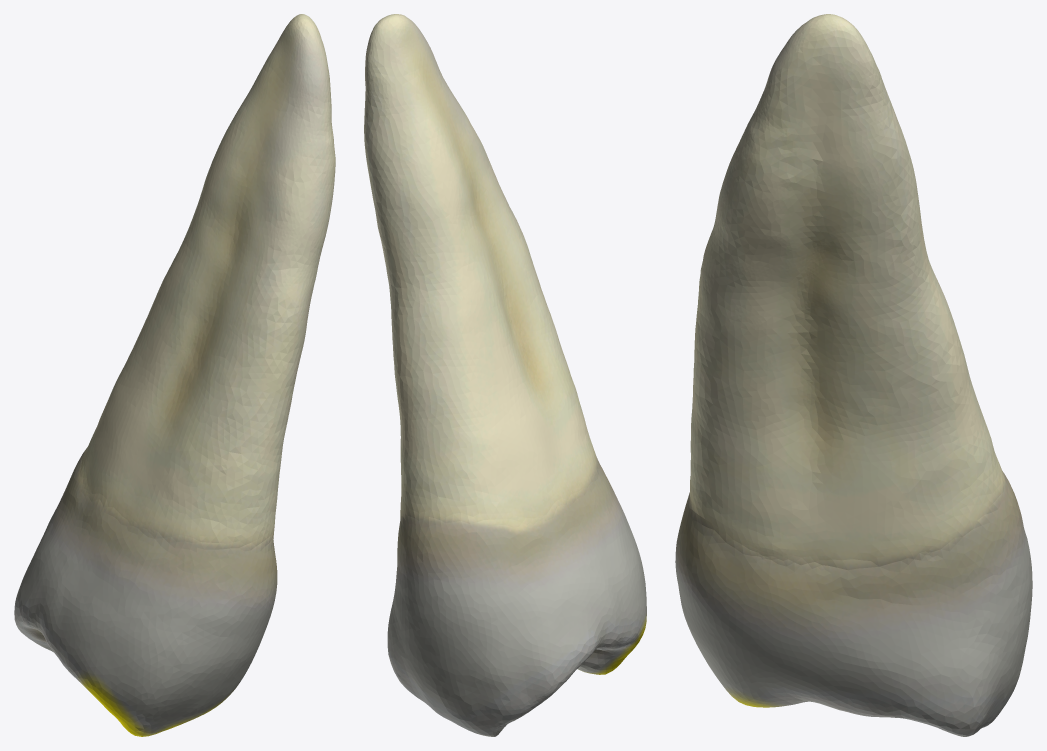
Rendered from 25 - segundo premolar superior esquerdo - face lingual.glb.
3 views of the same model, side by side, from view 1: azimuth 30°, elevation 25°; view 2: azimuth 150°, elevation 25°; view 3: azimuth 270°, elevation 25° (orthographic). The views are drawn at different scales.
Parts seen in each view (by area): view 1: 3MFMeshParent_0; view 2: 3MFMeshParent_0; view 3: 3MFMeshParent_0.
Boxes of the visible parts, x1,y1,x2,y2 form: 3MFMeshParent_0: (14,14,335,736); 3MFMeshParent_0: (364,14,646,736); 3MFMeshParent_0: (675,14,1032,736).
Size of the model in its own units: 0.2121 by 0.512 by 0.2089.
Materials: 1 (1 with a texture image).
